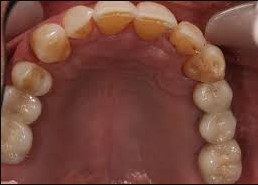UL1BC_healthy: (195, 84, 235, 114)
UL1M_healthy: (200, 142, 242, 184)
UL2BC_healthy: (199, 112, 237, 143)
ULCI_healthy: (136, 2, 177, 41)
ULC_healthy: (188, 49, 227, 83)
ULLI_healthy: (175, 21, 204, 55)
UR1BC_healthy: (13, 62, 54, 95)
UR1M_healthy: (1, 124, 34, 165)
UR2BC_healthy: (1, 86, 41, 123)
URCI_healthy: (94, 1, 135, 36)
URC_healthy: (30, 24, 74, 63)
URLI_healthy: (65, 7, 94, 39)
